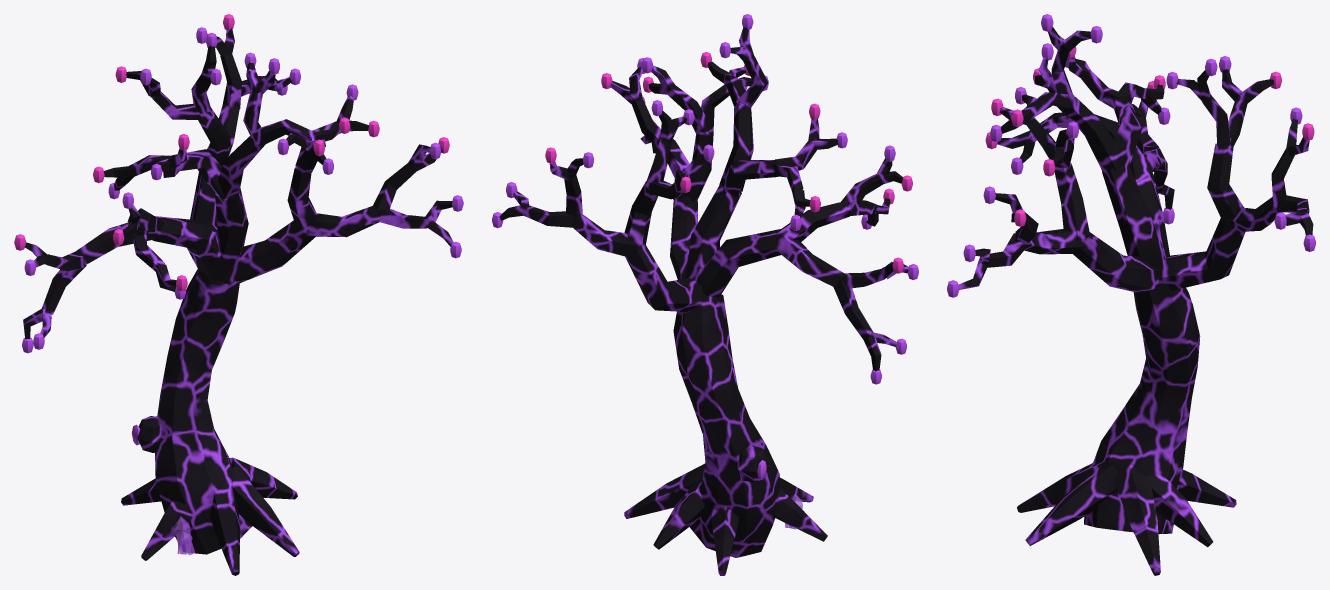
Rendered from arbol_alienigena_01.fbx.
3 renders of one model, left to right at view 1: azimuth 30°, elevation 25°; view 2: azimuth 150°, elevation 25°; view 3: azimuth 270°, elevation 25°, orthographic. The views are drawn at different scales.
Parts seen in each view (by area): view 1: arbol_alienigena_01, arbol_alienigena_01_neon, arbol_alienigena_01_neon_magenta; view 2: arbol_alienigena_01, arbol_alienigena_01_neon, arbol_alienigena_01_neon_magenta; view 3: arbol_alienigena_01, arbol_alienigena_01_neon, arbol_alienigena_01_neon_magenta.
Part boxes in pixels (bbox=[...]): arbol_alienigena_01: bbox=[23, 28, 453, 575]; arbol_alienigena_01_neon: bbox=[22, 27, 463, 445]; arbol_alienigena_01_neon_magenta: bbox=[14, 14, 449, 291]; arbol_alienigena_01: bbox=[499, 27, 908, 575]; arbol_alienigena_01_neon: bbox=[492, 14, 918, 479]; arbol_alienigena_01_neon_magenta: bbox=[545, 52, 912, 273]; arbol_alienigena_01: bbox=[958, 27, 1313, 575]; arbol_alienigena_01_neon: bbox=[947, 14, 1315, 297]; arbol_alienigena_01_neon_magenta: bbox=[985, 46, 1314, 226].
Bounding box in the file's own units: 19.61 × 25.46 × 15.78.
3 materials, 3 textured.
